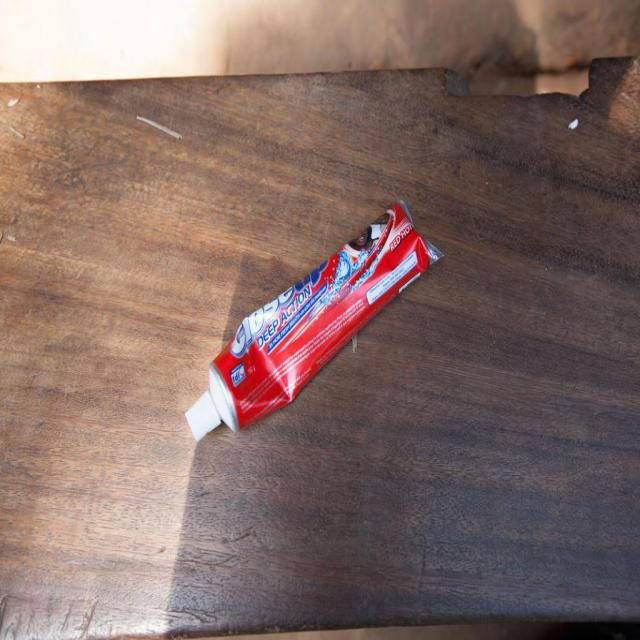Toothpaste: (182, 200, 448, 446)
